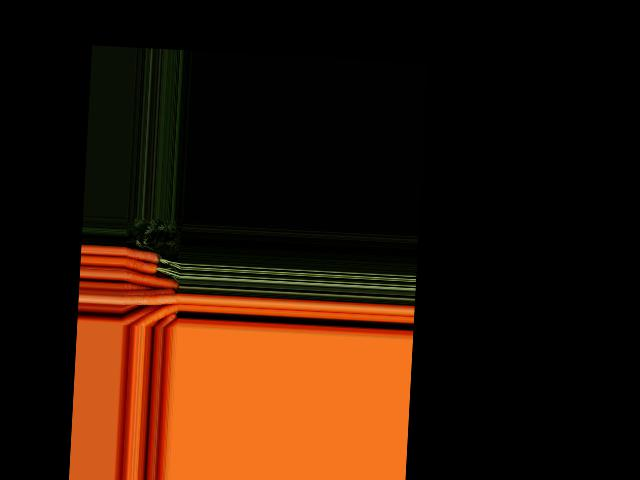carrot: (133, 303, 177, 327)
